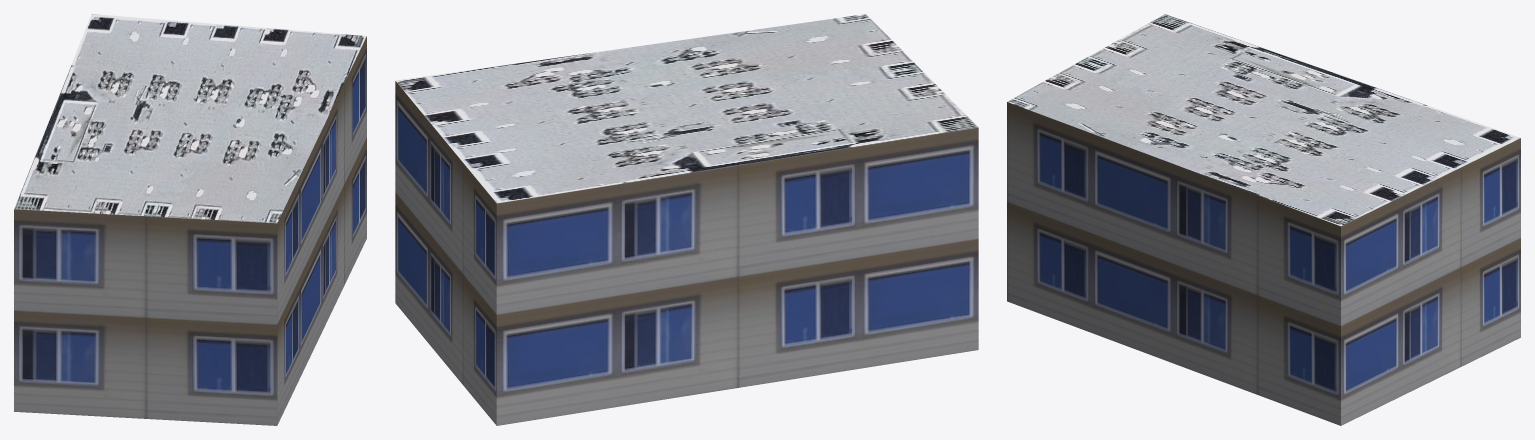
File: ResTex__2298.fbx
3 views of the same model, side by side, from view 1: azimuth 30°, elevation 25°; view 2: azimuth 150°, elevation 25°; view 3: azimuth 270°, elevation 25° (orthographic). The views are drawn at different scales.
Visible parts, largest first — view 1: CityEngineMaterial_23_m, CityEngineMaterial_4_m; view 2: CityEngineMaterial_23_m, CityEngineMaterial_4_m; view 3: CityEngineMaterial_23_m, CityEngineMaterial_4_m.
Boxes of the visible parts, x1,y1,x2,y2 form: CityEngineMaterial_23_m: (14,36,366,425); CityEngineMaterial_4_m: (14,14,366,223); CityEngineMaterial_23_m: (395,81,978,425); CityEngineMaterial_4_m: (395,14,978,203); CityEngineMaterial_23_m: (1007,102,1520,425); CityEngineMaterial_4_m: (1007,14,1520,226).
Size of the model in its own units: 13.69 by 6 by 14.
2 materials, 2 textured.
